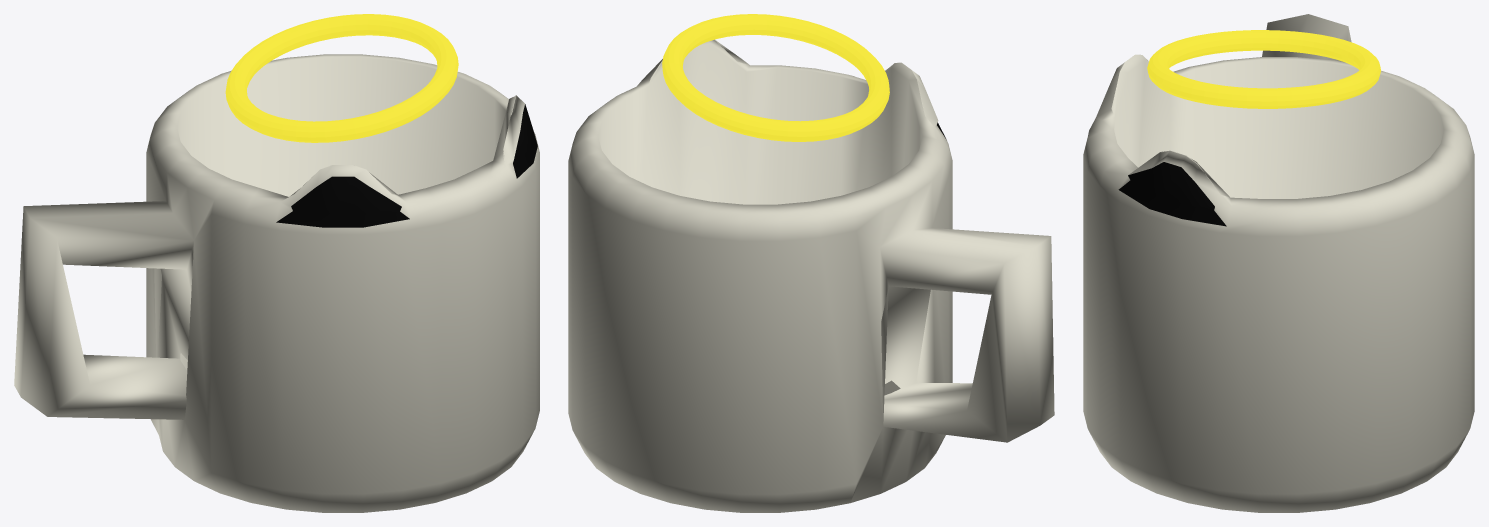
File: Cat cup3.glb
3 views of the same model, side by side, from view 1: azimuth 30°, elevation 25°; view 2: azimuth 150°, elevation 25°; view 3: azimuth 270°, elevation 25° (orthographic). The views are drawn at different scales.
Visible parts, largest first — view 1: Cylinder, Torus; view 2: Cylinder, Torus; view 3: Cylinder, Torus.
Part boxes in pixels (left/top/right/bottom): Cylinder: left=14, top=54, right=539, bottom=512; Torus: left=225, top=14, right=458, bottom=142; Cylinder: left=568, top=39, right=1054, bottom=512; Torus: left=662, top=14, right=889, bottom=141; Cylinder: left=1083, top=14, right=1474, bottom=512; Torus: left=1147, top=30, right=1380, bottom=108.
Bounding box in the file's own units: 2.68 × 2.16 × 1.93.
